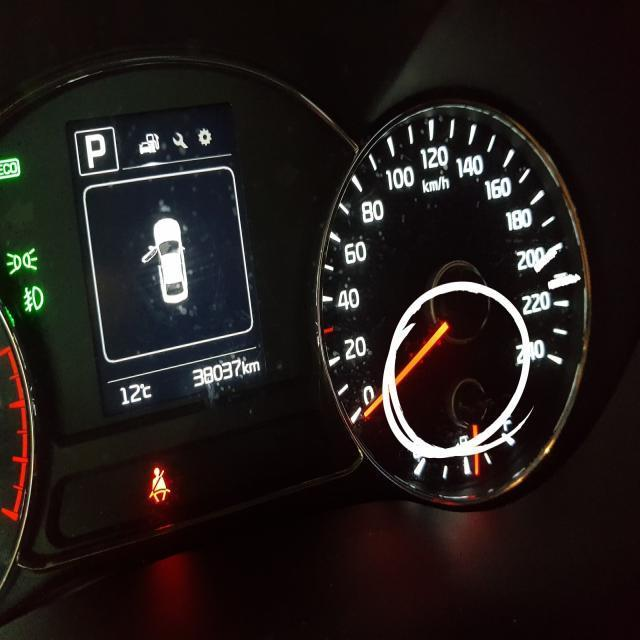FrontFogLight: (22, 284, 44, 312)
SideLamp: (5, 244, 38, 276)
